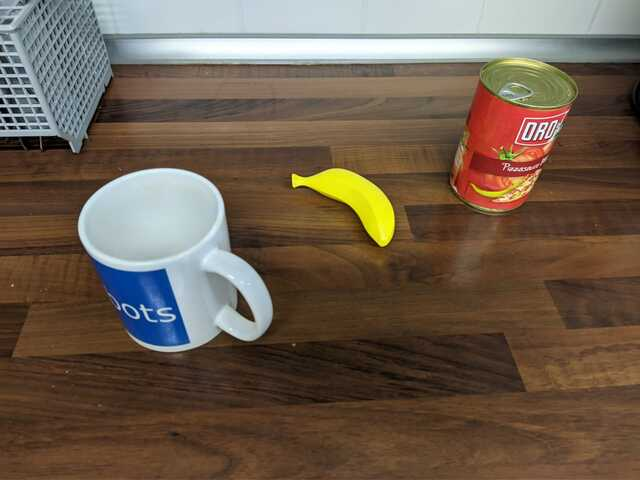005_tomato_soup_can: (449, 56, 578, 214)
011_banana: (290, 167, 396, 247)
025_mug: (76, 166, 275, 356)
